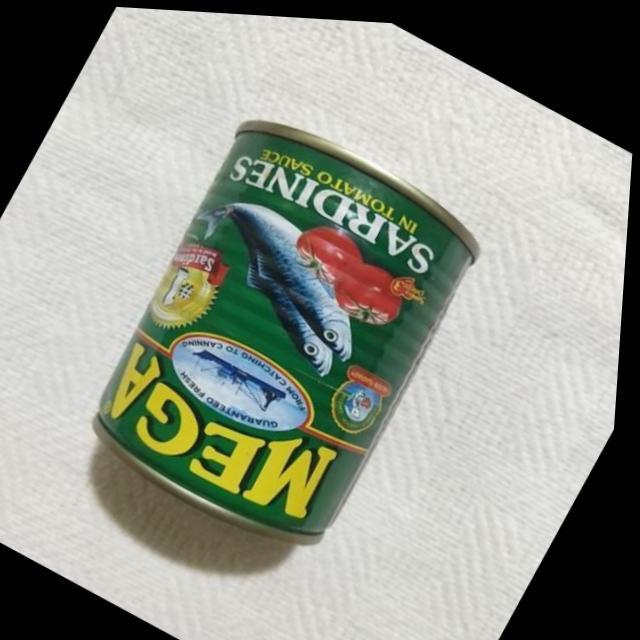metal: (60, 86, 502, 578)
